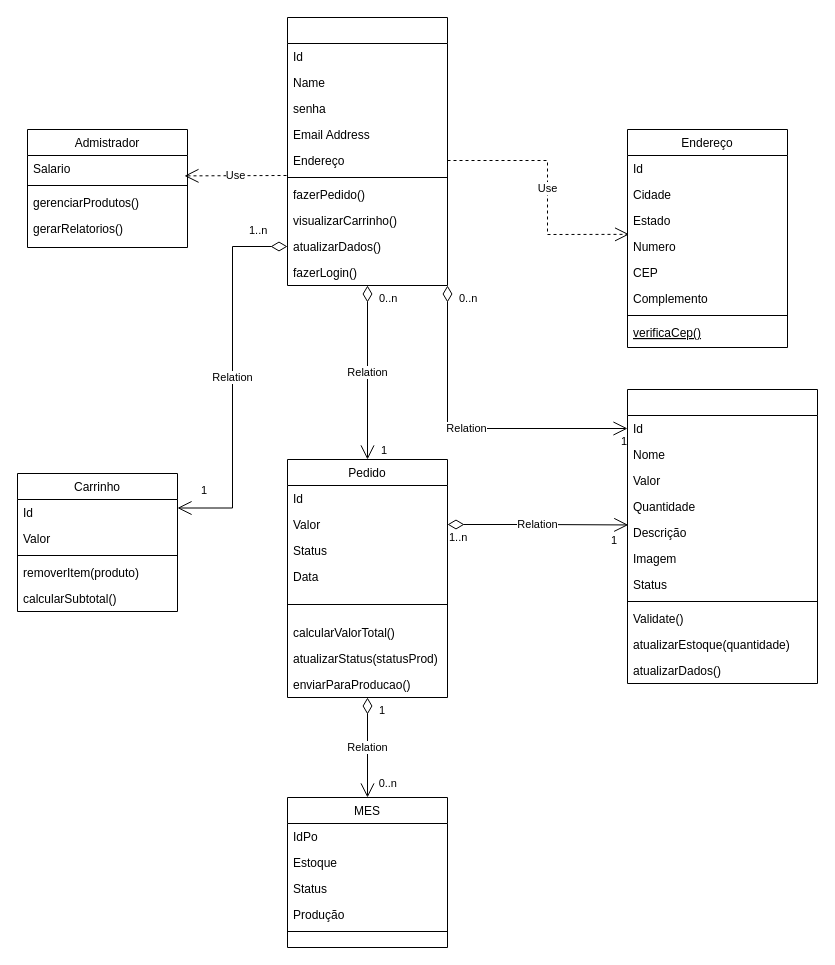
Image size: 835x965. Some labels were removed from this diagram. Here are the shapes that lost their labels. From the top down, the box of each, then its label:
(286, 16, 448, 286): Usuario
(626, 388, 818, 684): Produto
